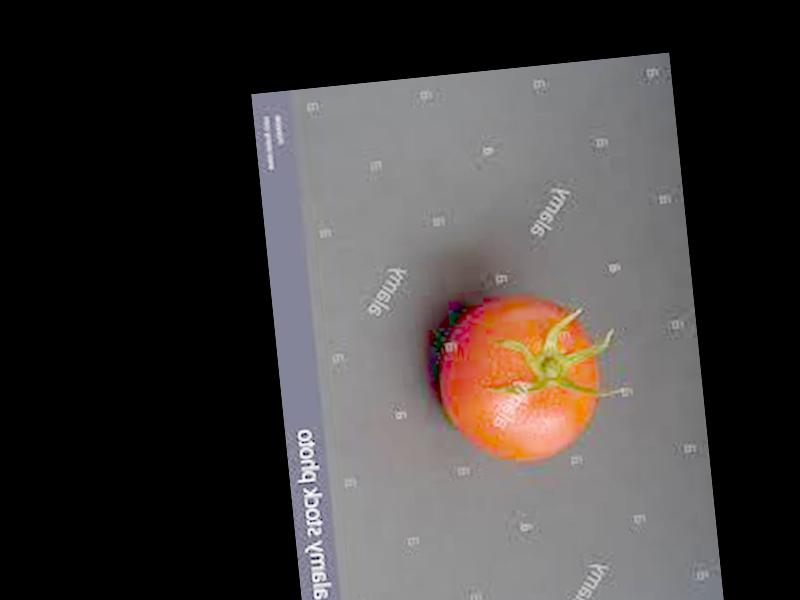Tomato: (438, 287, 607, 468)
